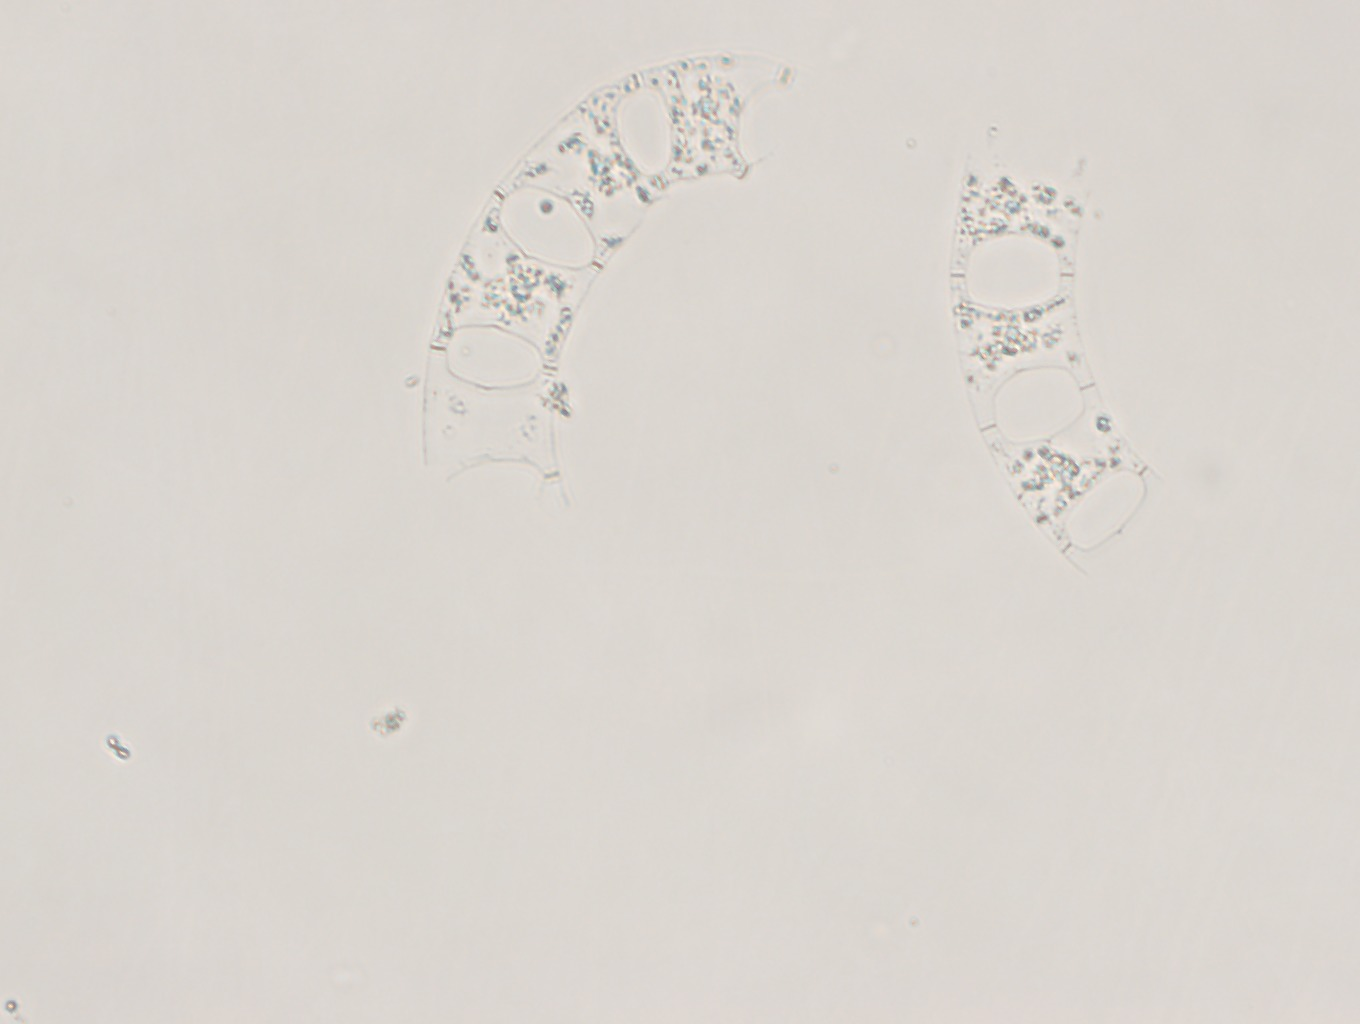eucampia: (412, 46, 792, 504), (935, 120, 1188, 588)
